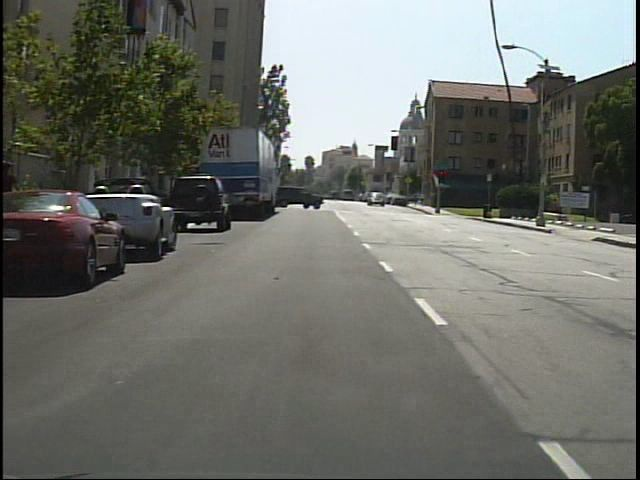person: (409, 188, 421, 210)
